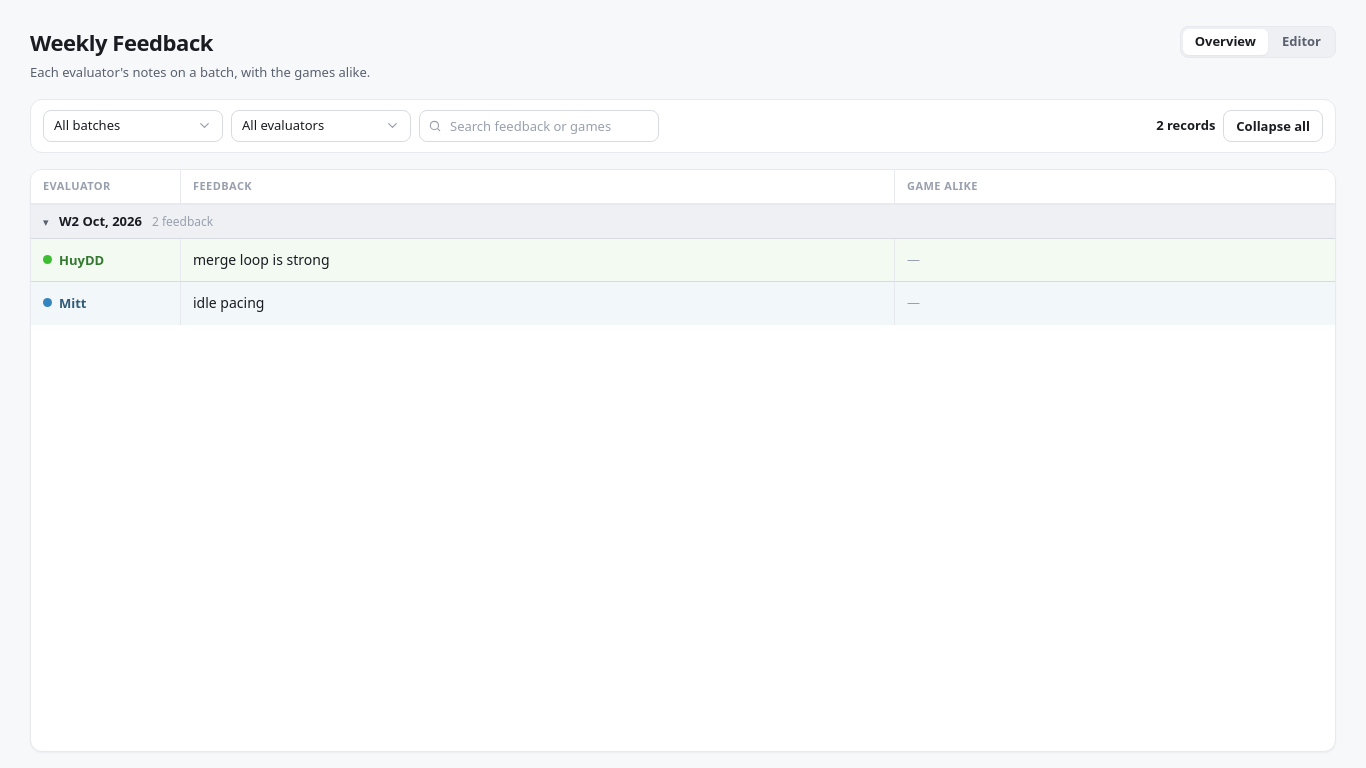
Test: Weekly Feedback › opens the Editor on its batch picker and keeps the view in the URL
The image size is (1366, 768).
Expected: the text "2 records" is shown, [1156,116,1215,135]
What coordinates should you click on to do the following:
click the button "Editor"
I would click on:
 (1301, 42)
Its box is [1270,29,1333,55].
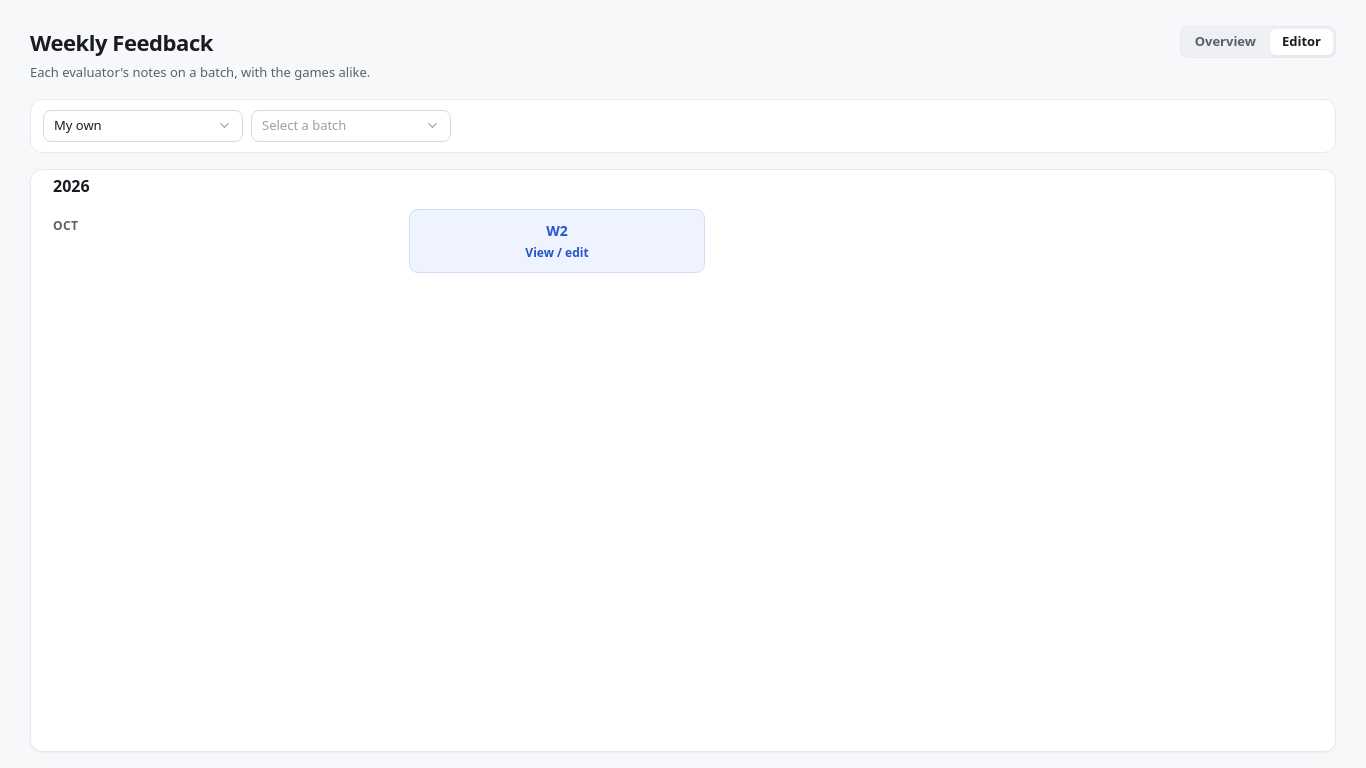
Result: the button with aria-label "Batch: Select a batch" is shown at [251,110,451,142]
